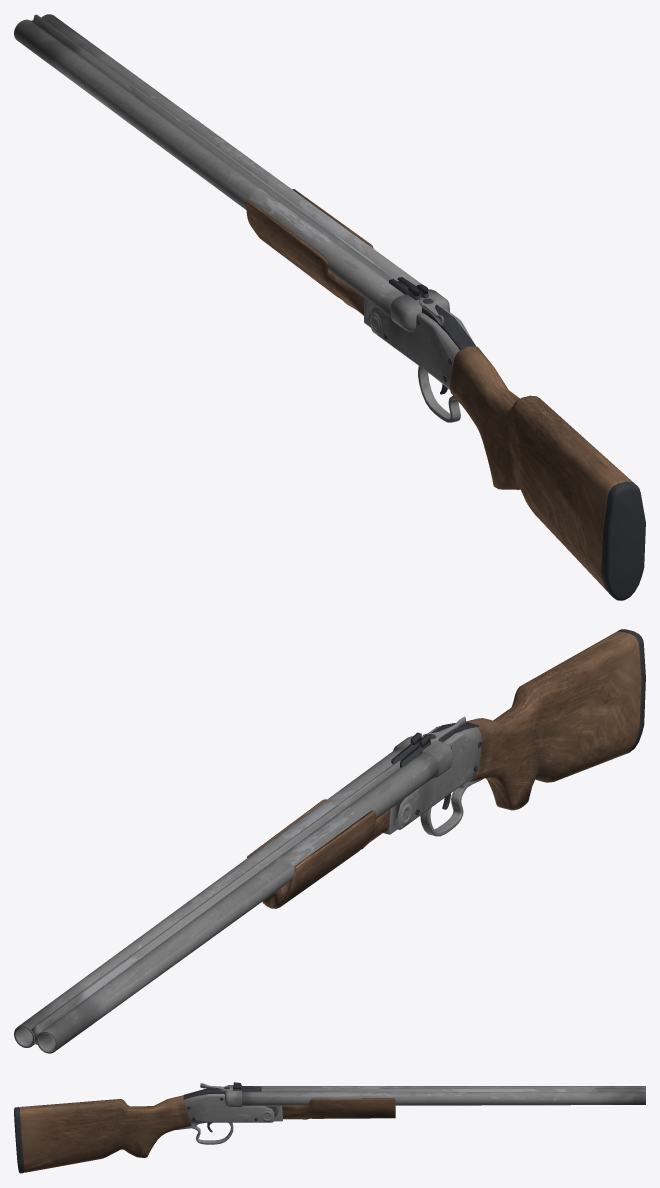
The model's file is shotgun.glb.
3 views of the same model, one above another, from view 1: azimuth 30°, elevation 25°; view 2: azimuth 150°, elevation 25°; view 3: azimuth 270°, elevation 25° (orthographic). The views are drawn at different scales.
Visible parts, largest first — view 1: Cube (×3); view 2: Cube (×3); view 3: Cube (×3).
Boxes of the visible parts, x1,y1,x2,y2 form: Cube (×3): [14, 14, 645, 600]; Cube (×3): [14, 629, 645, 1053]; Cube (×3): [14, 1082, 645, 1173].
Bounding box in the file's own units: 0.1648 × 0.5039 × 3.26.
Materials: 3 (3 with a texture image).
